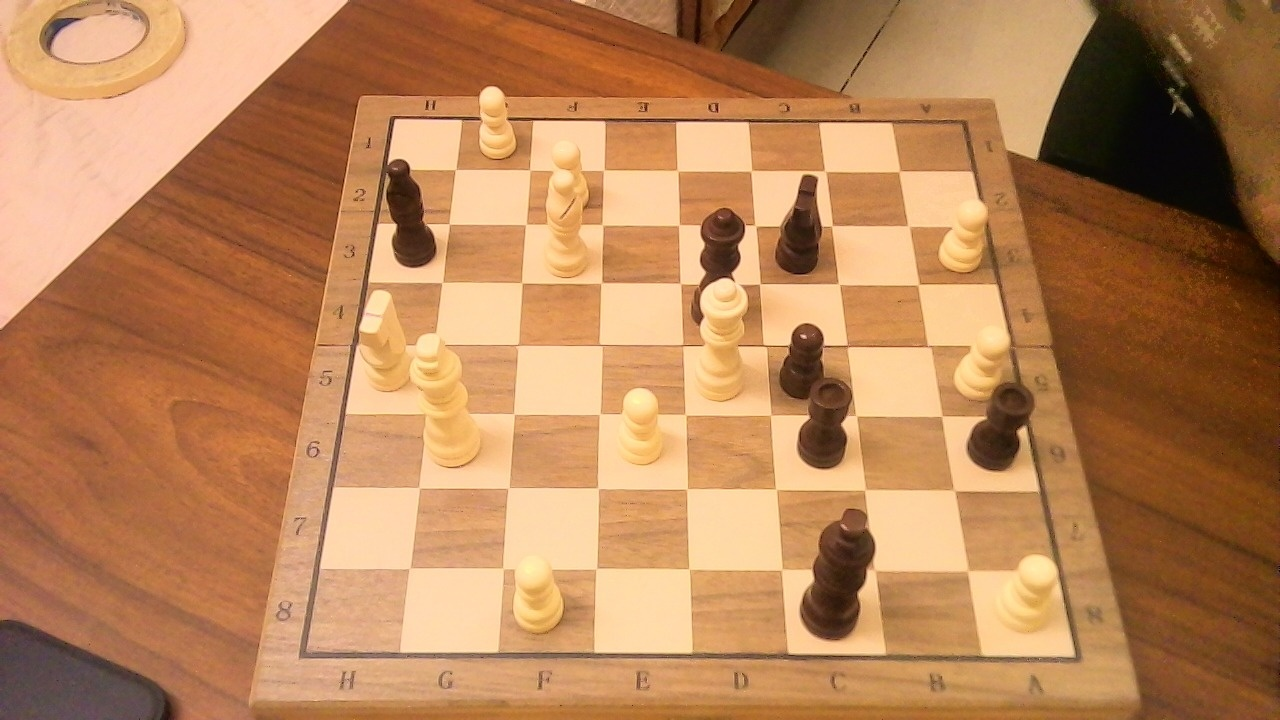B: (532, 160, 597, 281)
K: (407, 321, 492, 472)
N: (352, 316, 417, 397)
P: (989, 544, 1068, 637), (504, 544, 572, 638), (948, 316, 1018, 403), (606, 378, 671, 471), (933, 190, 995, 275), (469, 78, 523, 162), (540, 132, 594, 212)
Q: (688, 265, 759, 407)
b: (378, 147, 443, 271)
k: (794, 494, 890, 646)
n: (769, 159, 834, 278)
p: (781, 322, 830, 399)
q: (687, 196, 759, 329)
r: (961, 370, 1044, 476), (790, 366, 863, 474)
